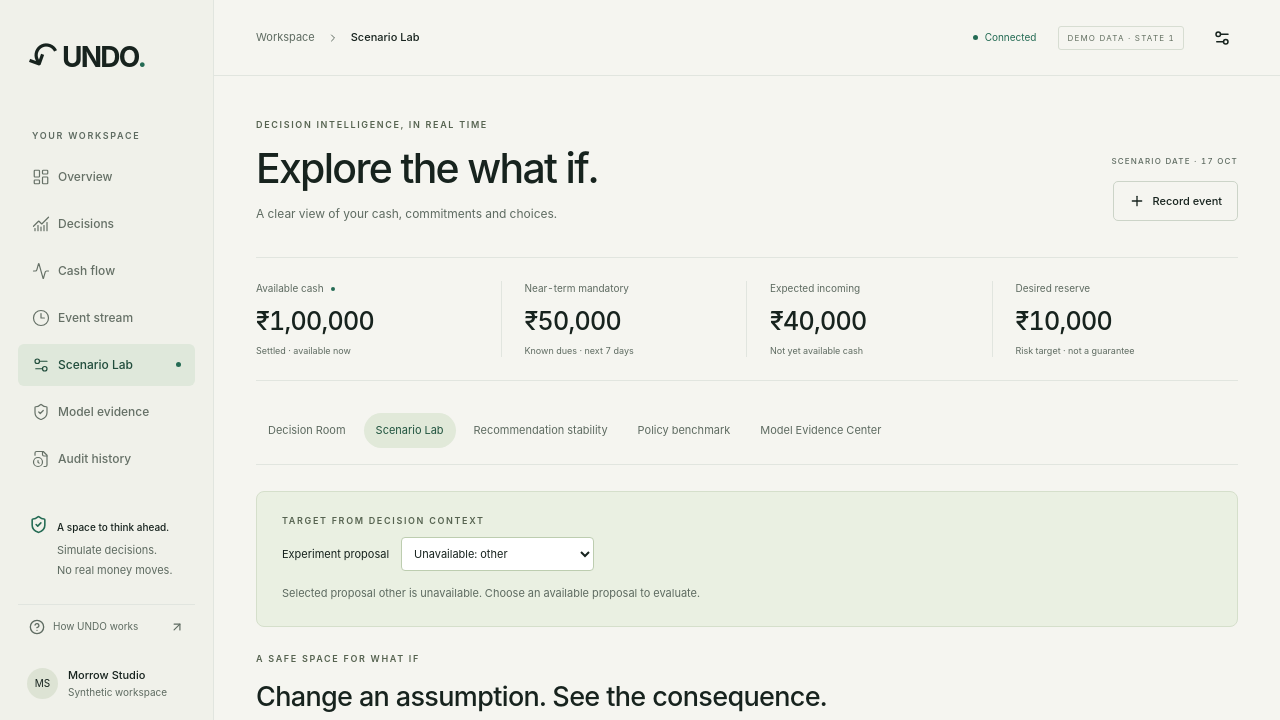
Scenario: direct Lab link preserves target/settings; missing target requires explicit replacement
This screenshot has width=1280, height=720.
Expected: the message shows "Selected proposal other is unavailable", [282, 586, 700, 600]
Select "Evergreen Supplies · proposal" in the dropdown labelled "Experiment proposal" at x=498, y=554, box [401, 537, 594, 571]
(page scrolled)
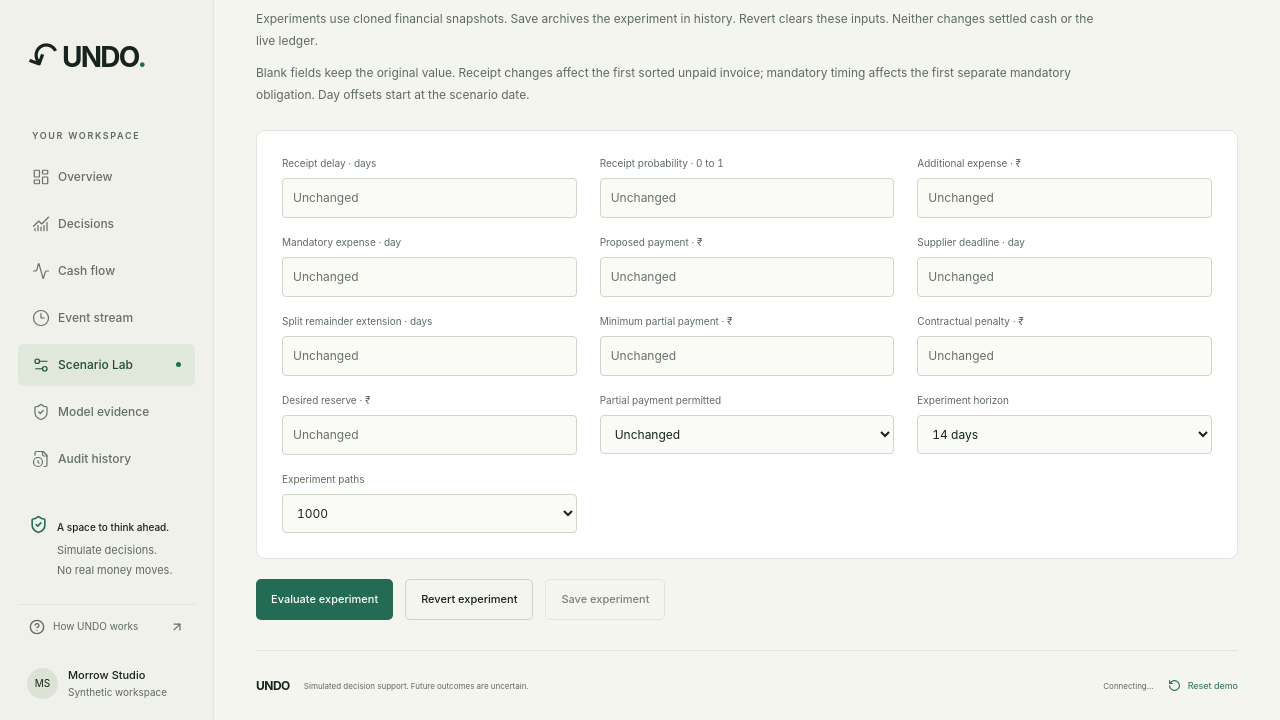
Expected: the button "Evaluate experiment" is enabled, [256, 579, 393, 620]
